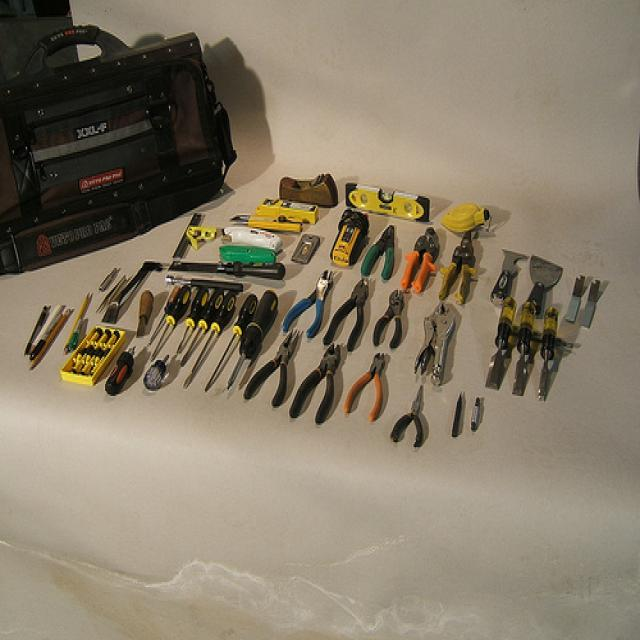wire_cutter: (289, 345, 342, 427), (283, 271, 334, 338), (347, 350, 390, 420), (361, 225, 396, 282)
